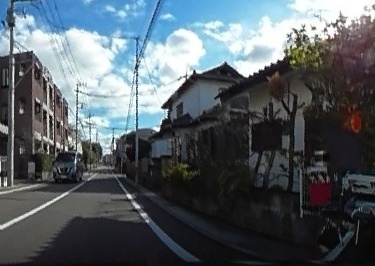person: (366, 51, 375, 255)
